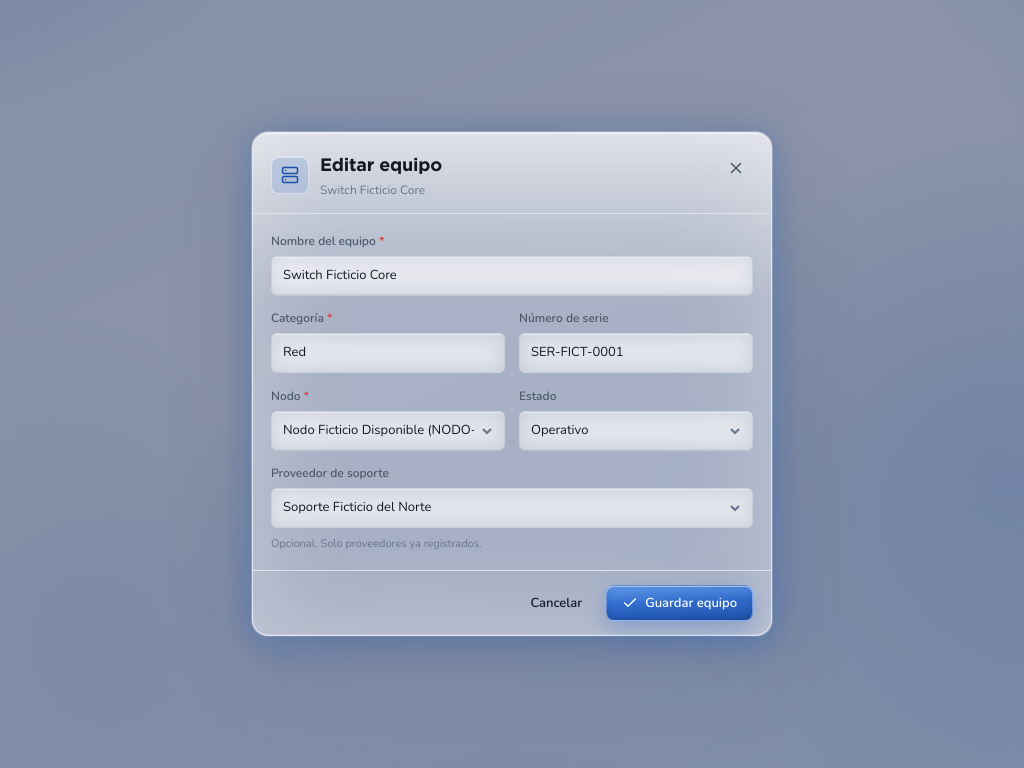
EquipmentFormModal — reparto de los conflictos 409 › el 409 por cambio de nodo durante un mantenimiento va al error general
This screenshot has width=1024, height=768.
expect the field with placeholder "Switch core" is shown: met, box [271,256,753,295]
Step 1. Click the button "Guardar equipo" → (680, 603), box [606,585,753,621]
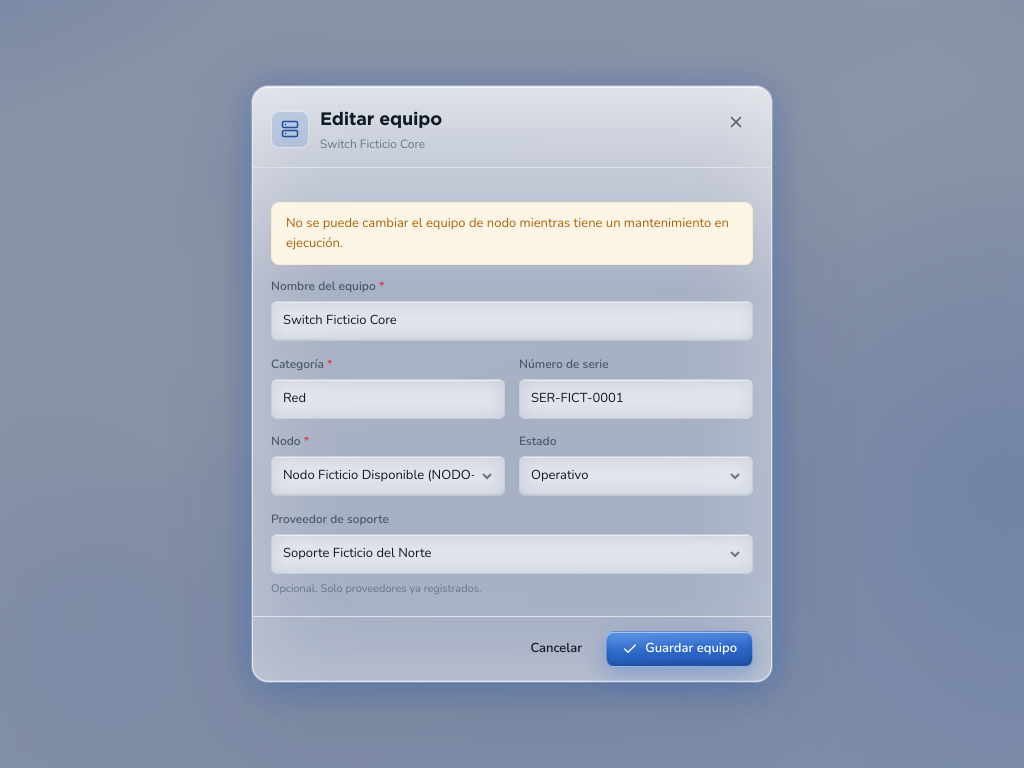
expect the message shows "No se puede cambiar el equipo de nodo mientras tiene un mantenimiento en ejecución.": met, box [286,214,729,252]
